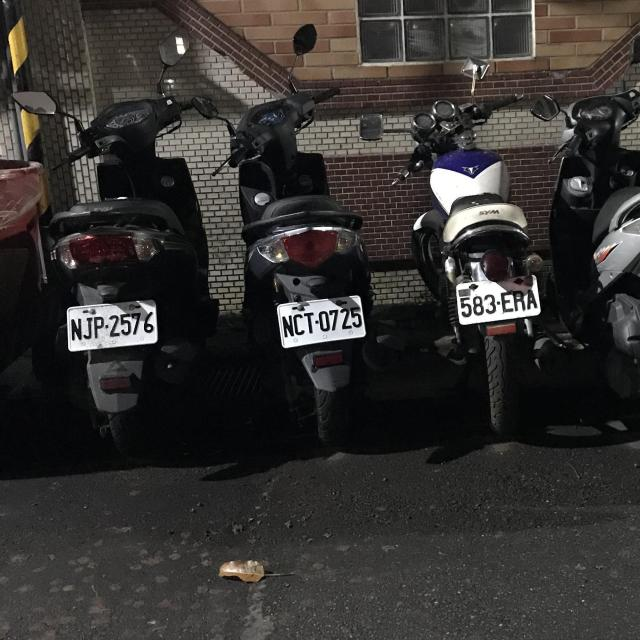W: (274, 294, 368, 348), (65, 299, 161, 351), (453, 273, 542, 326)
